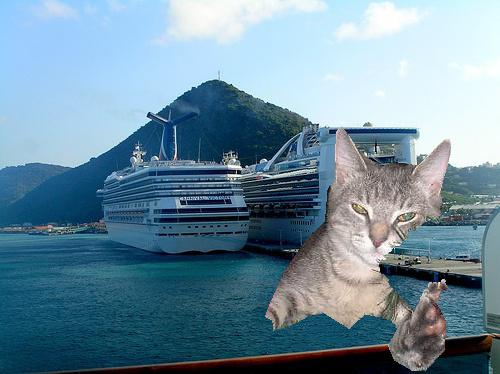tampered: (266, 127, 451, 371)
